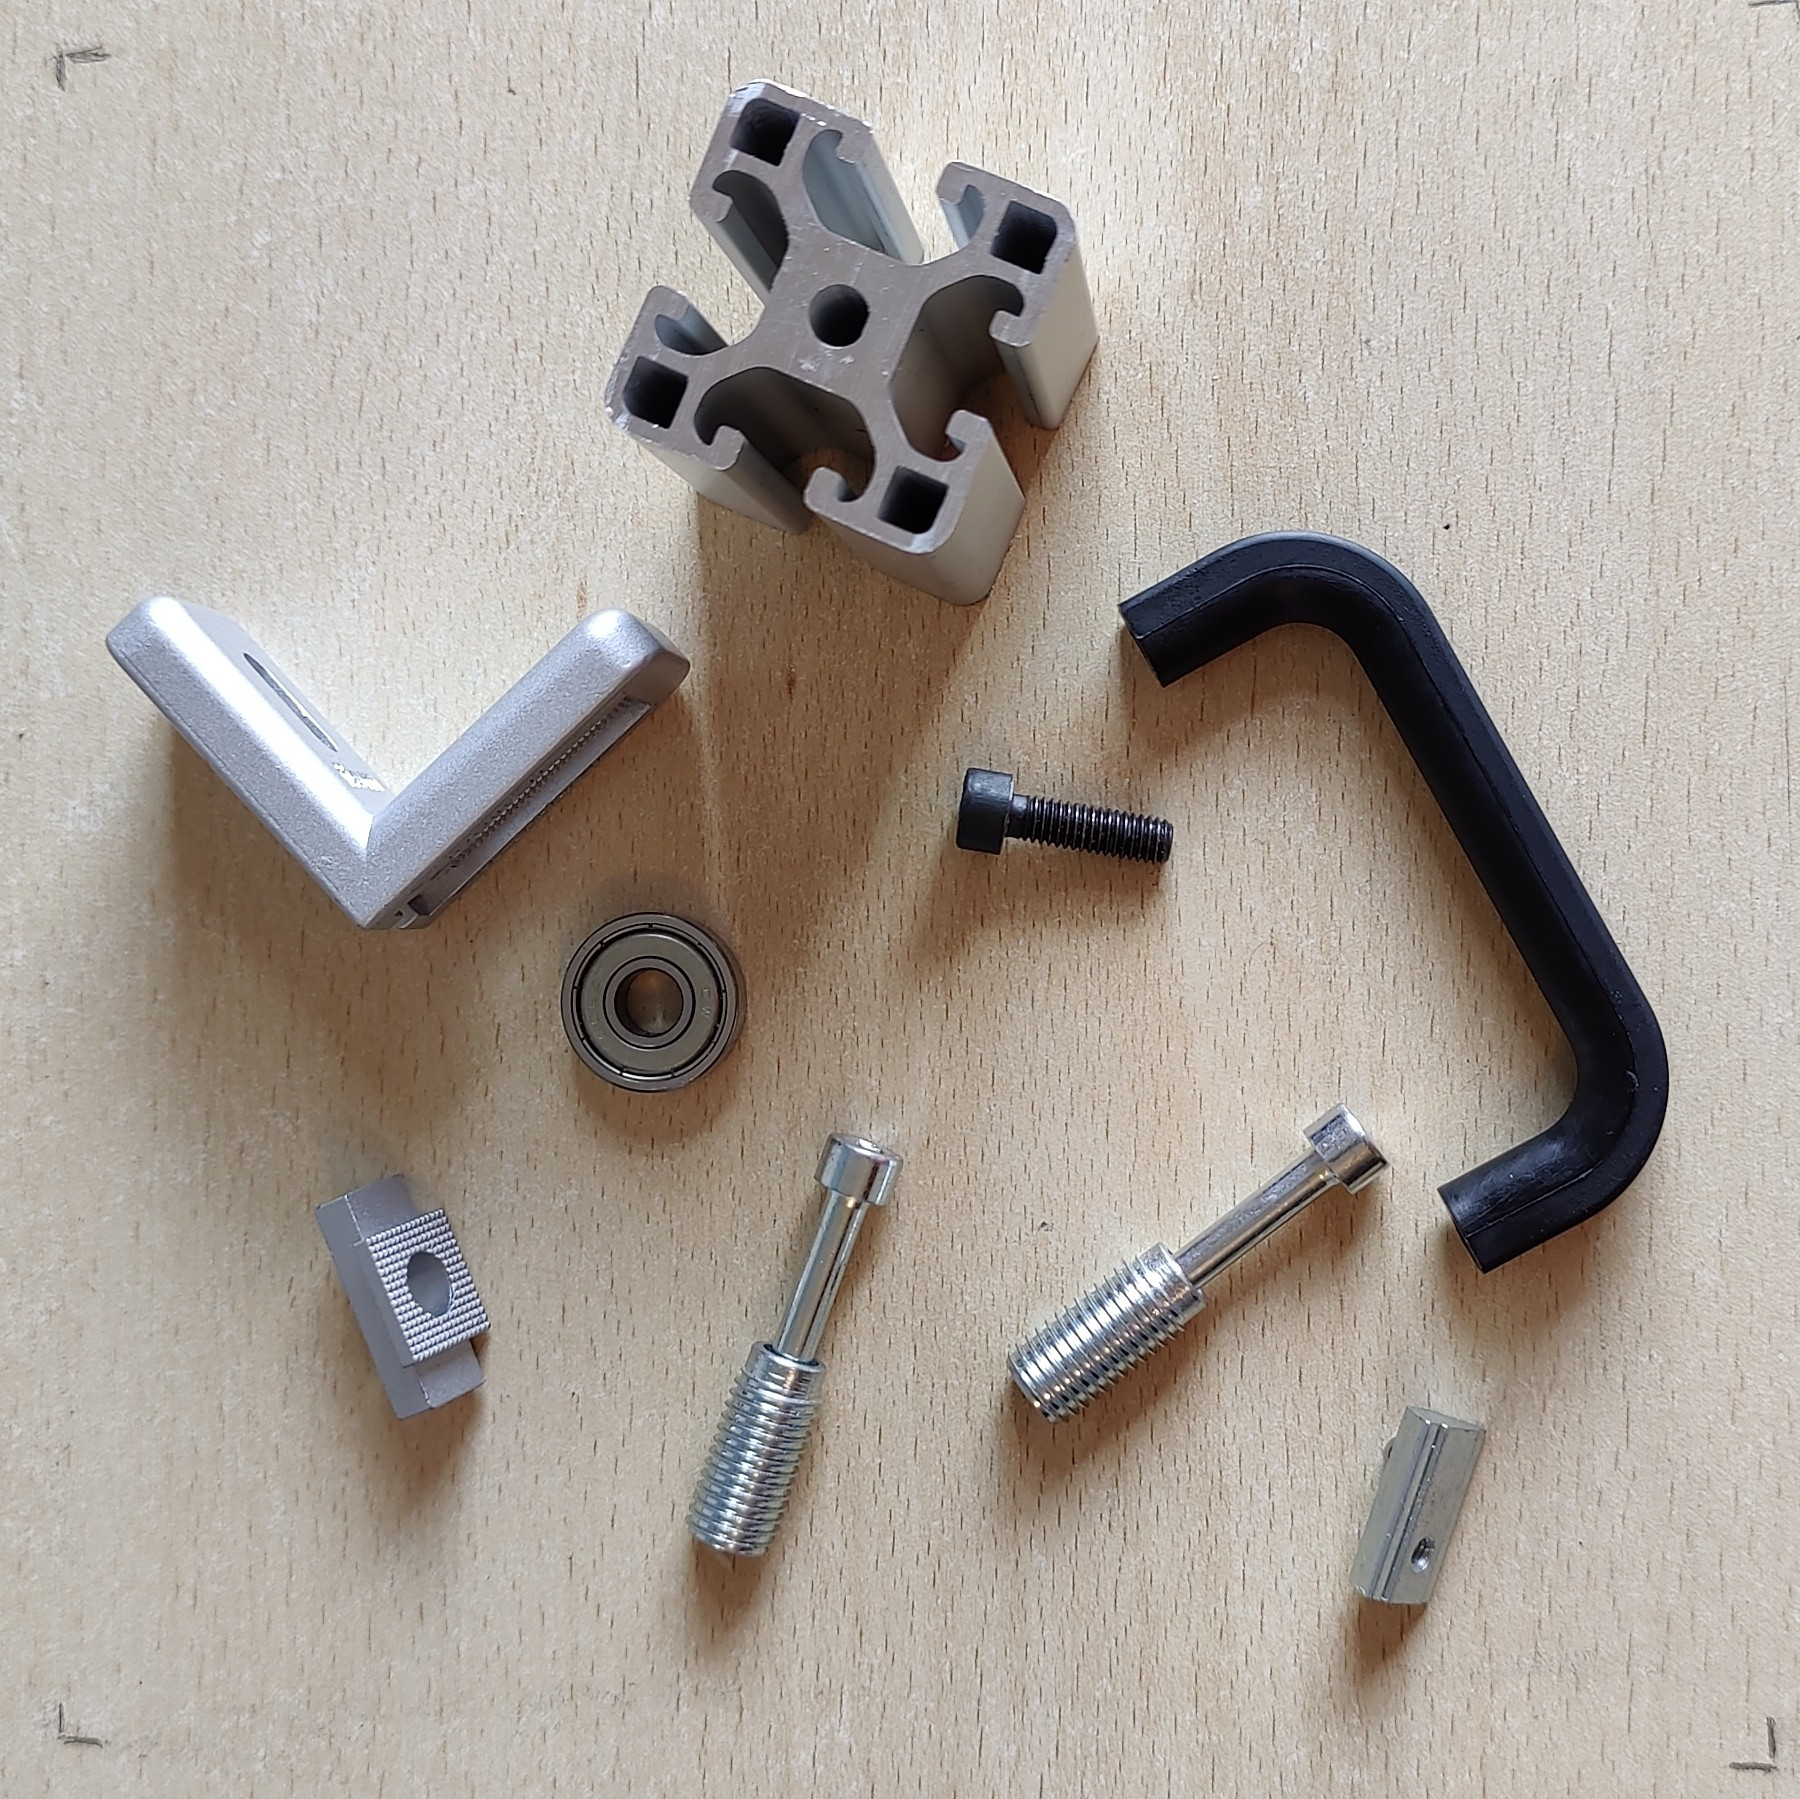Aluminium Extension: (601, 79, 1102, 608)
Ball Bearing: (558, 908, 753, 1096)
Multiwinkel: (105, 595, 692, 937)
Pull Handle: (1115, 526, 1672, 1277)
Shoulder Socket Head Cap Screw: (1005, 1096, 1390, 1427), (682, 1128, 902, 1560)
Socket Head Cap Screw: (955, 764, 1177, 867)
T Nut Square: (310, 1171, 494, 1425)
T Spring Nut: (1345, 1402, 1492, 1608)
